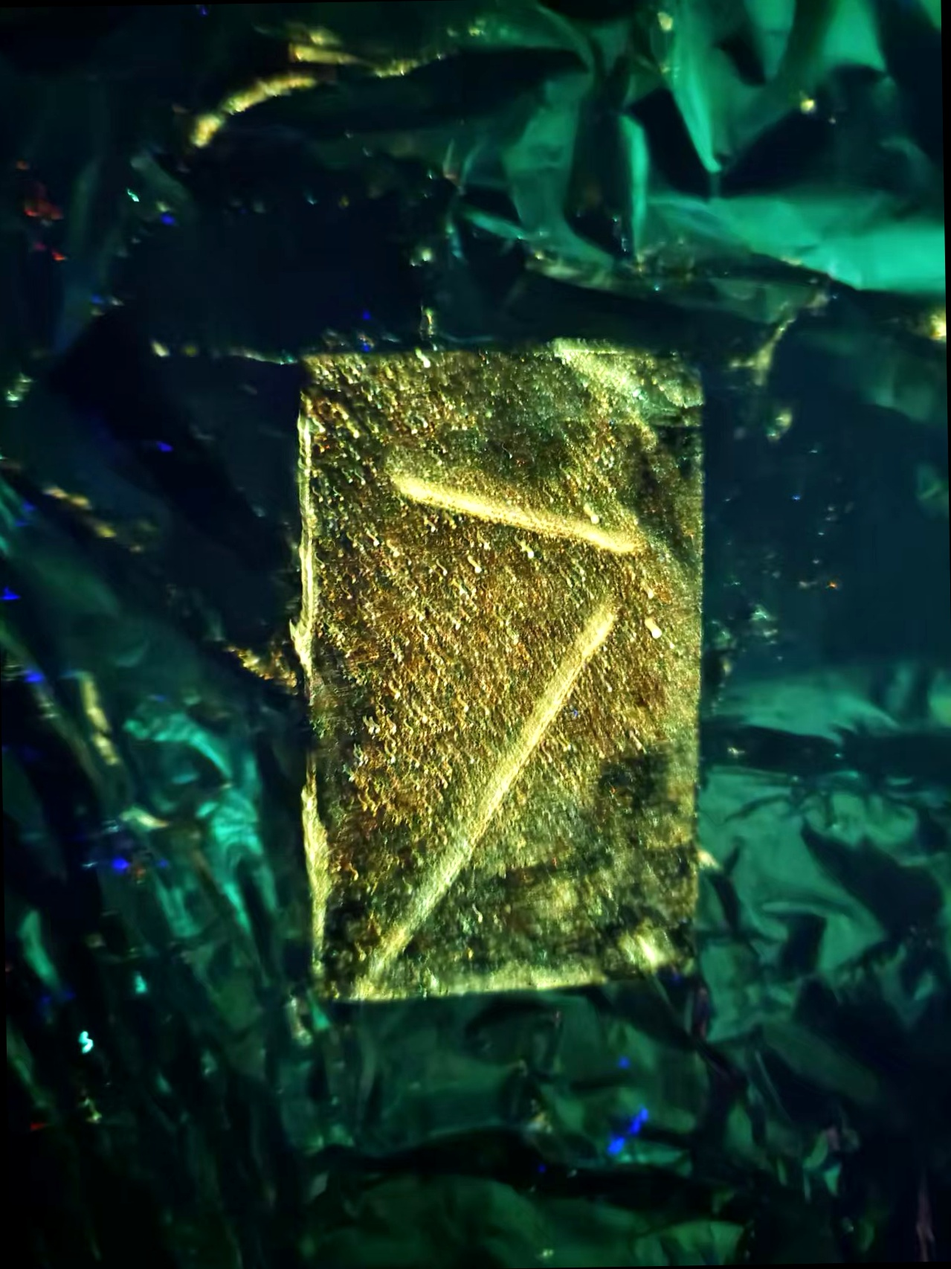Fissure: (344, 612, 630, 1001), (385, 455, 645, 577)
